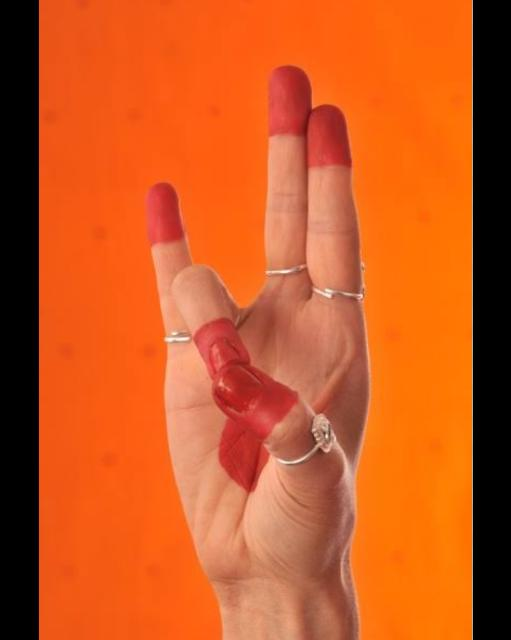mayur: (103, 69, 421, 597), (146, 66, 372, 640)
